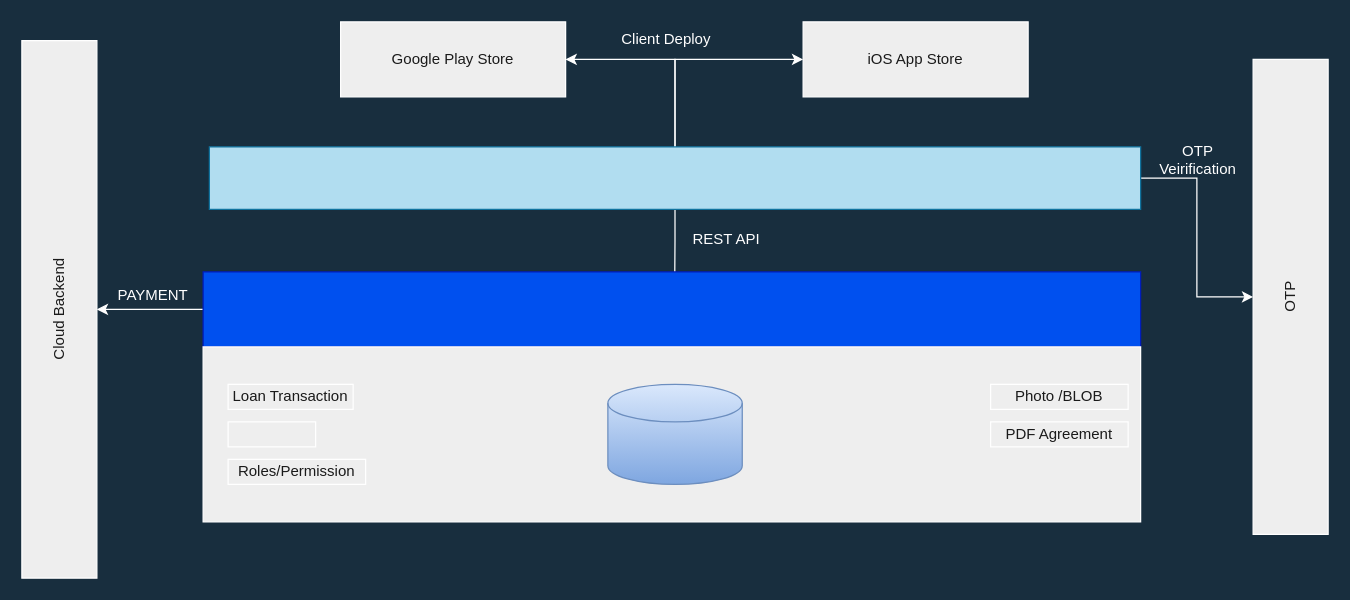
This 1350x600 diagram has some shape labels left out. The centre of each missing label's shape, as x and y in pixels:
"DATABASE" belongs at point 674,433.
"Integration Layer ( API )" belongs at point 671,309.
"Mobile Apps Itunes / Android" belongs at point 674,177.
"User Login" belongs at point 271,434.
